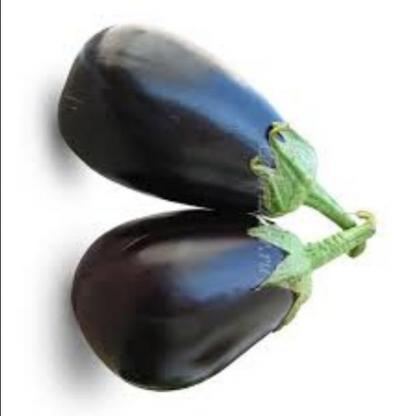eggplant: (52, 14, 359, 227), (51, 201, 372, 396)
